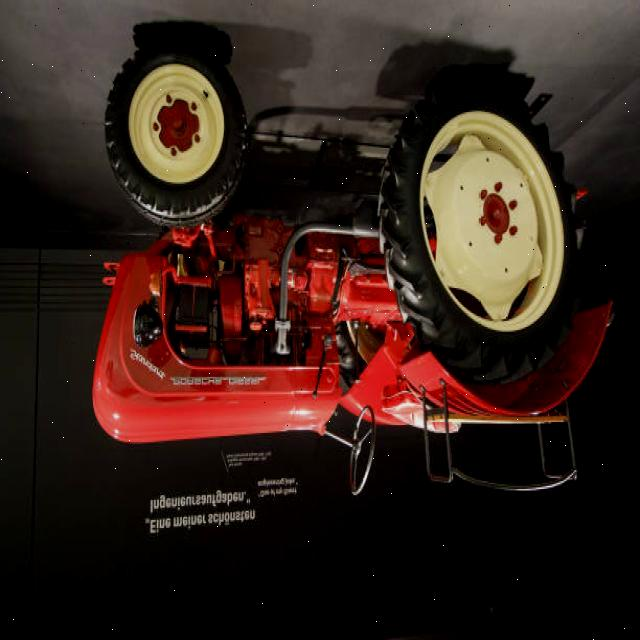Tratores - v5 YOLO V8L 2024-11-13: (88, 34, 619, 498)
